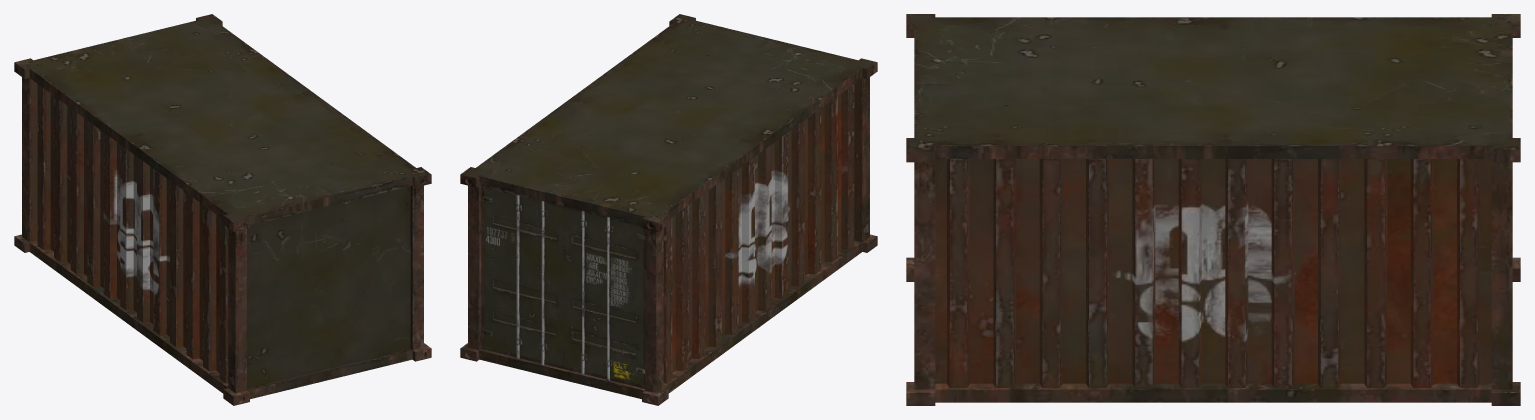
File: container.glb
3 renders of one model, left to right at view 1: azimuth 30°, elevation 25°; view 2: azimuth 150°, elevation 25°; view 3: azimuth 270°, elevation 25°, orthographic. The views are drawn at different scales.
Visible parts, largest first — view 1: doors.001_front doors_0; view 2: doors.001_front doors_0; view 3: doors.001_front doors_0.
Part boxes in pixels (left/top/right/bottom): doors.001_front doors_0: left=14, top=14, right=431, bottom=405; doors.001_front doors_0: left=460, top=14, right=877, bottom=405; doors.001_front doors_0: left=906, top=14, right=1520, bottom=405.
Size of the model in its own units: 3.16 by 2.8 by 6.06.
3 materials, 3 textured.
